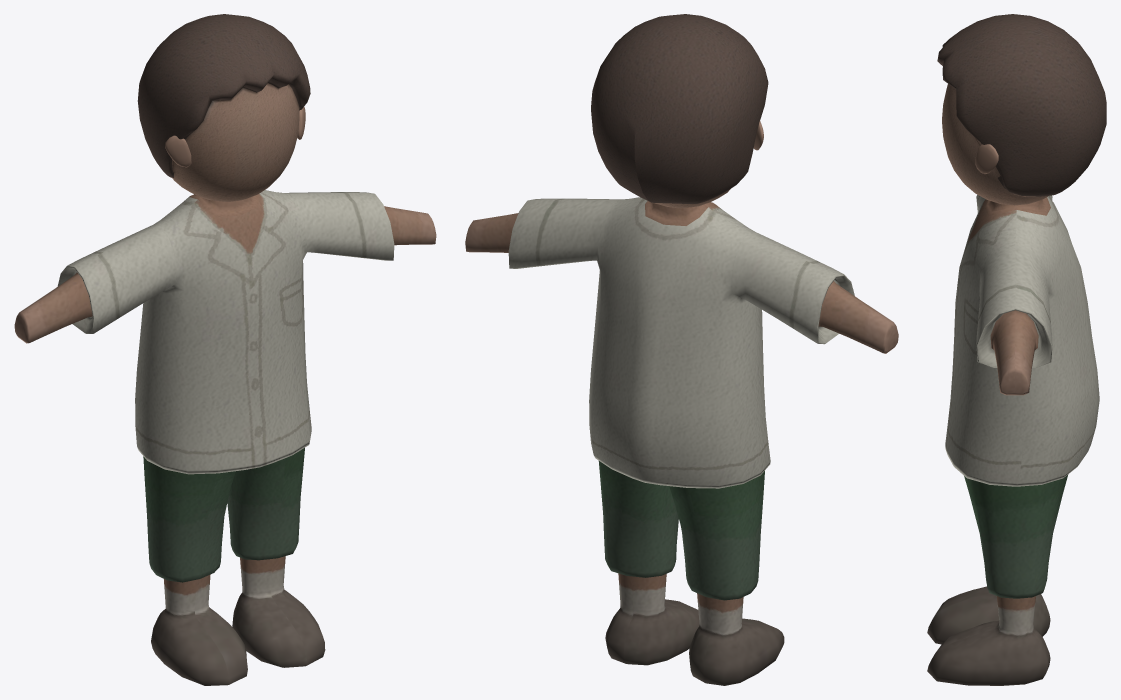
File: npc_student_boy_1.fbx
The picture shows the model from 3 angles, left to right: view 1: azimuth 30°, elevation 25°; view 2: azimuth 150°, elevation 25°; view 3: azimuth 270°, elevation 25°; orthographic projection. The views are drawn at different scales.
Visible parts, largest first — view 1: pCube5, pCube7; view 2: pCube5, pCube7; view 3: pCube5, pCube7, pCube8.
Boxes of the visible parts, <box> form: pCube5: <box>14,190,436,685</box>; pCube7: <box>137,14,310,201</box>; pCube5: <box>465,197,898,685</box>; pCube7: <box>591,14,768,208</box>; pCube5: <box>927,194,1099,685</box>; pCube7: <box>937,14,1106,205</box>; pCube8: <box>975,144,998,173</box>.
Bounding box in the file's own units: 9.5 × 13.79 × 3.56.
Materials: 3 (3 with a texture image).
